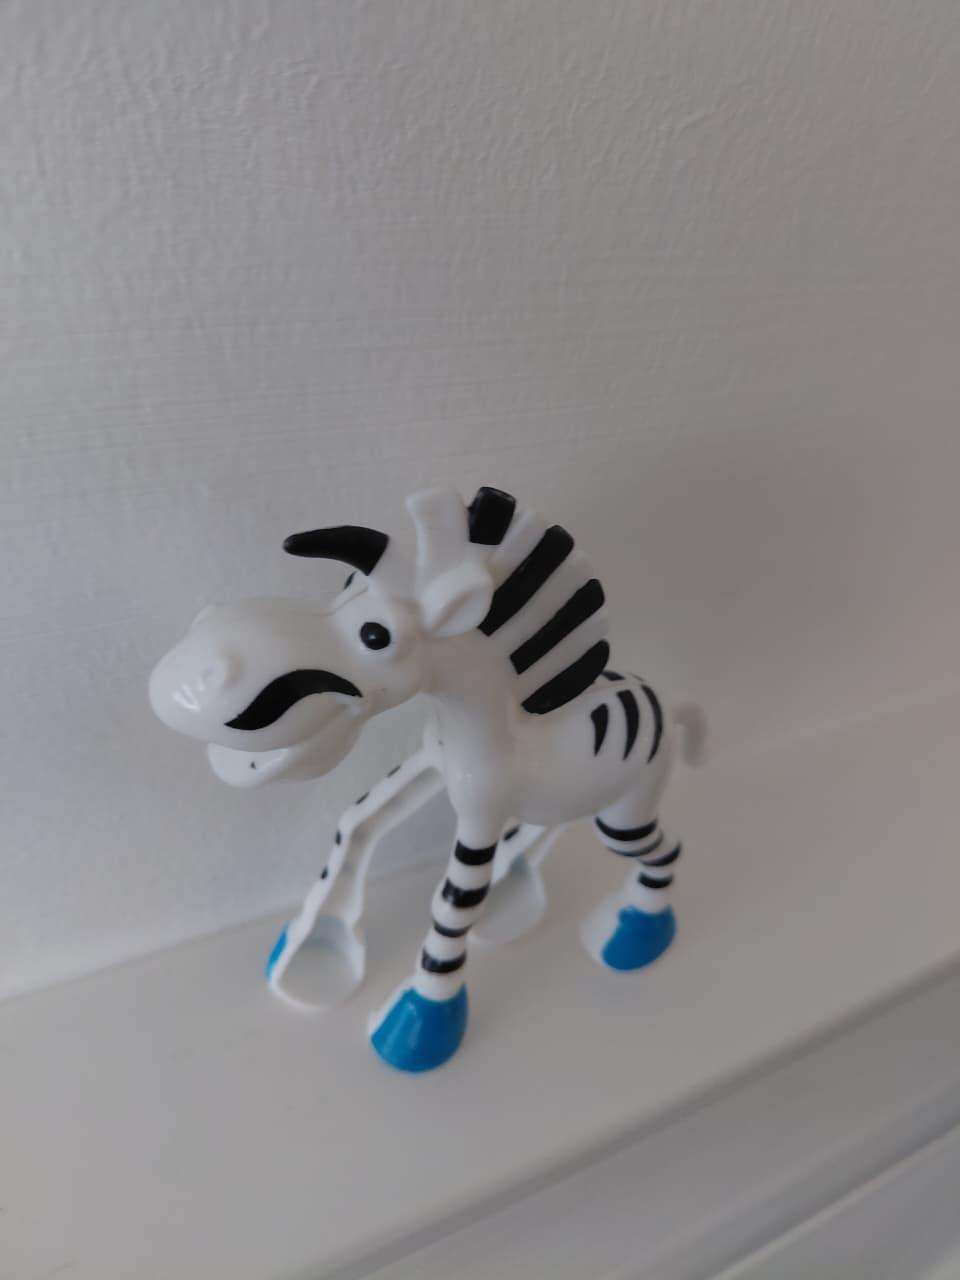zebra: (90, 428, 746, 1107)
